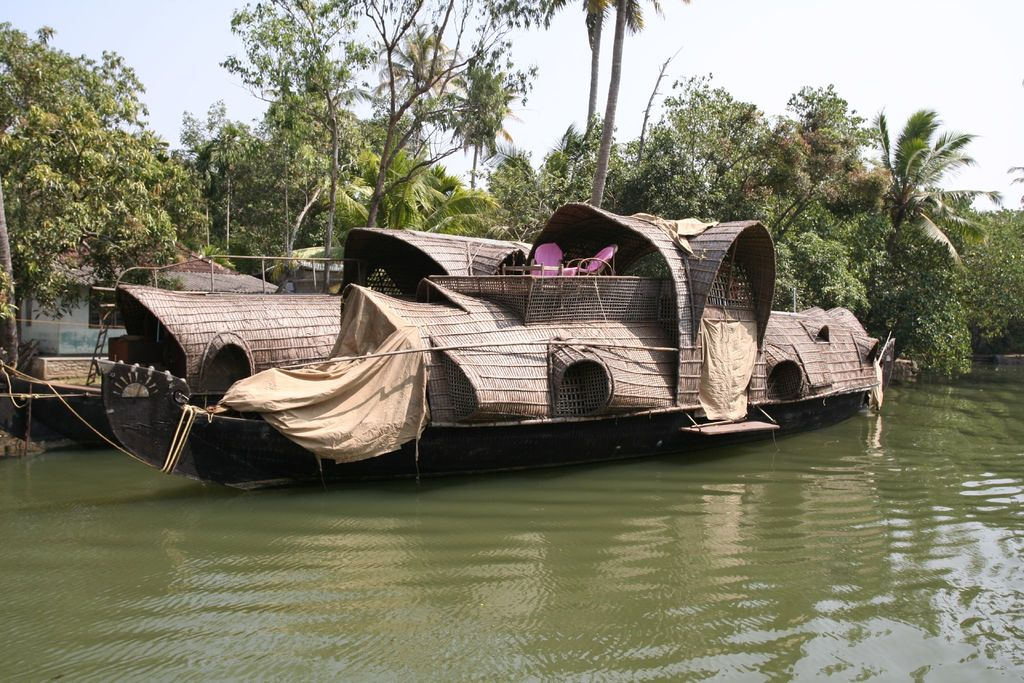Tree: (603, 69, 1022, 372), (162, 0, 579, 290), (0, 10, 215, 369), (562, 0, 693, 209)
